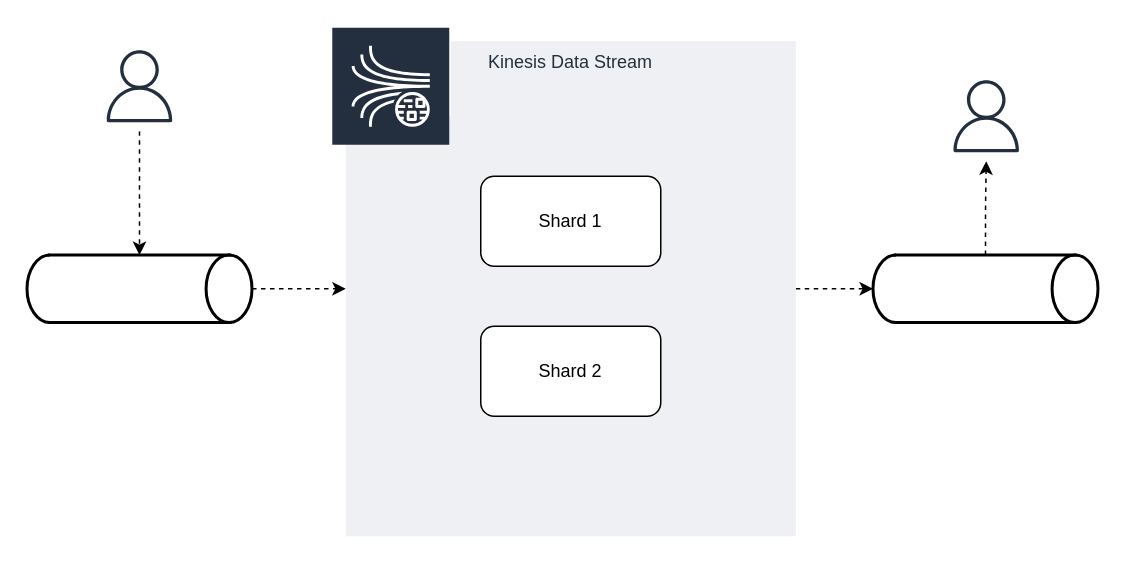
Some shapes in this 1125 by 563 pixel diagram are drawn without their labels. Here are the shapes that lost their labels. From the top down, the box of each, then its label:
(93, 40, 184, 131): Producer
(940, 70, 1031, 161): Consumer
